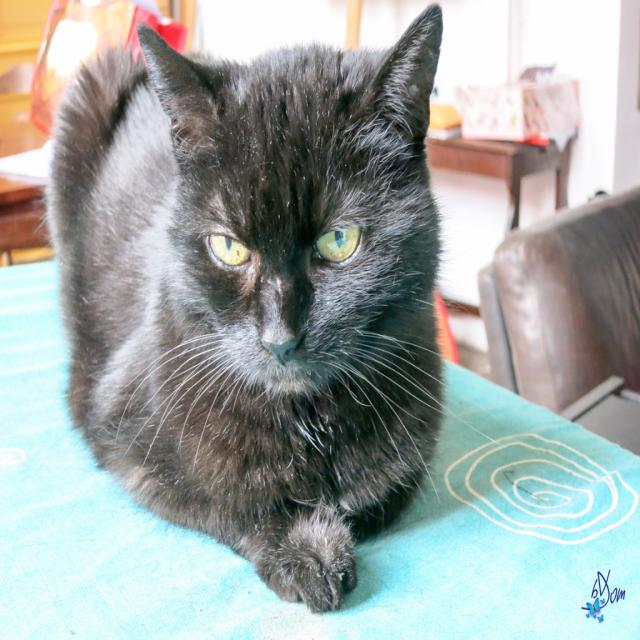Cat: (32, 0, 507, 612)
